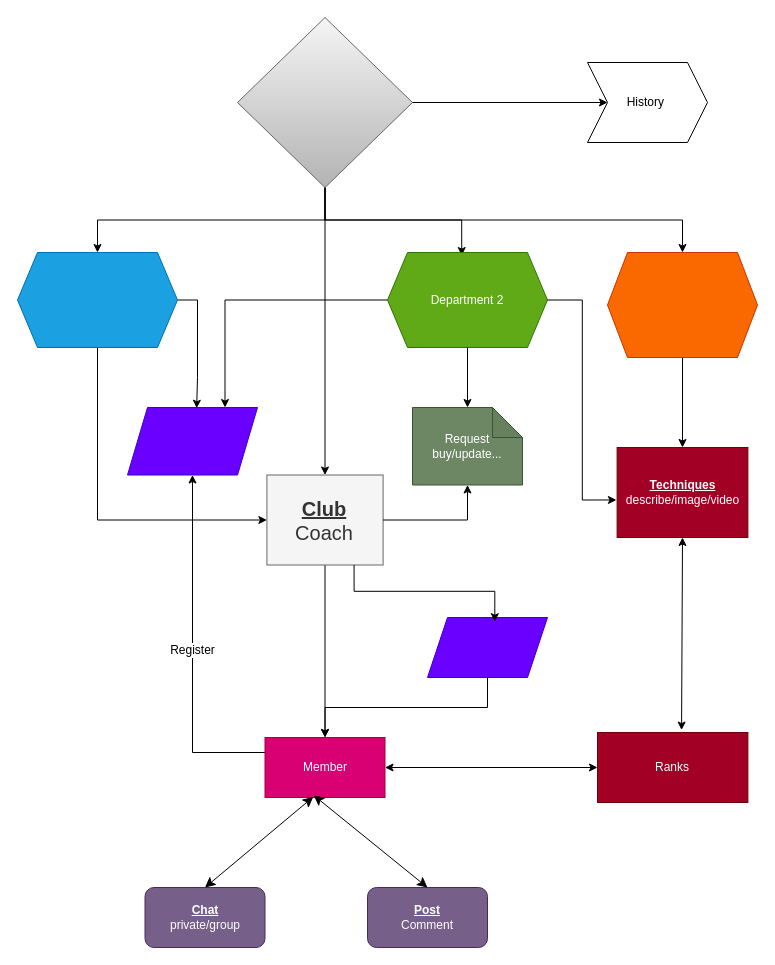
Some shapes in this 775 by 965 pixel diagram are drawn without their labels. The shapes that lost their labels are listed below. From the top down, each one's box as (x1, y1, x2, y2) in pixels, then its label:
(236, 16, 412, 188): HEAD
(16, 252, 178, 348): Department 1
(606, 252, 758, 358): Department 3
(126, 406, 258, 475): Event
(426, 616, 548, 678): Event club
